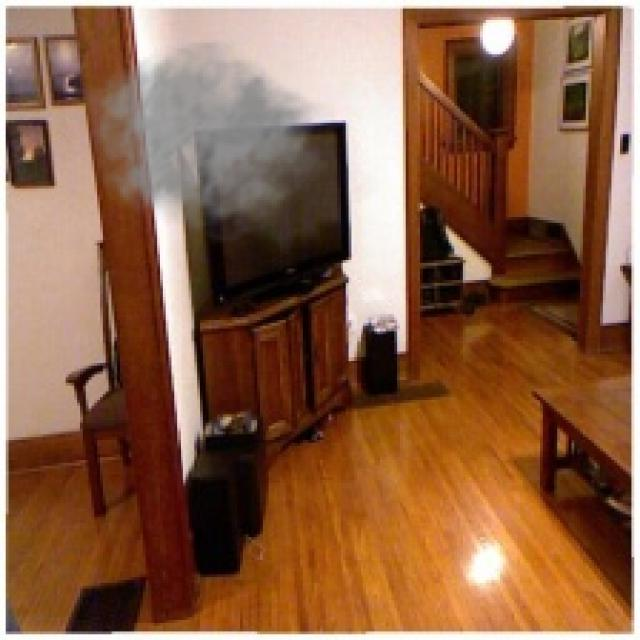smoke: (83, 40, 334, 246)
